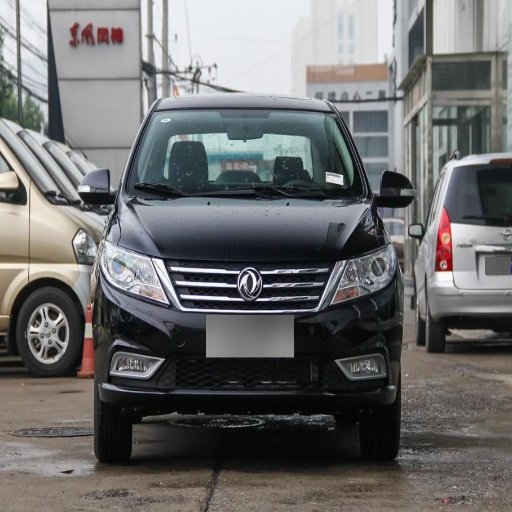front_bumper: (97, 258, 406, 423)
front_left_light: (331, 246, 396, 304)
front_right_door: (2, 202, 28, 288)
front_right_light: (100, 239, 169, 304)
hood: (119, 196, 380, 265)
left_mirror: (376, 170, 415, 207)
trunk: (461, 226, 509, 284)
